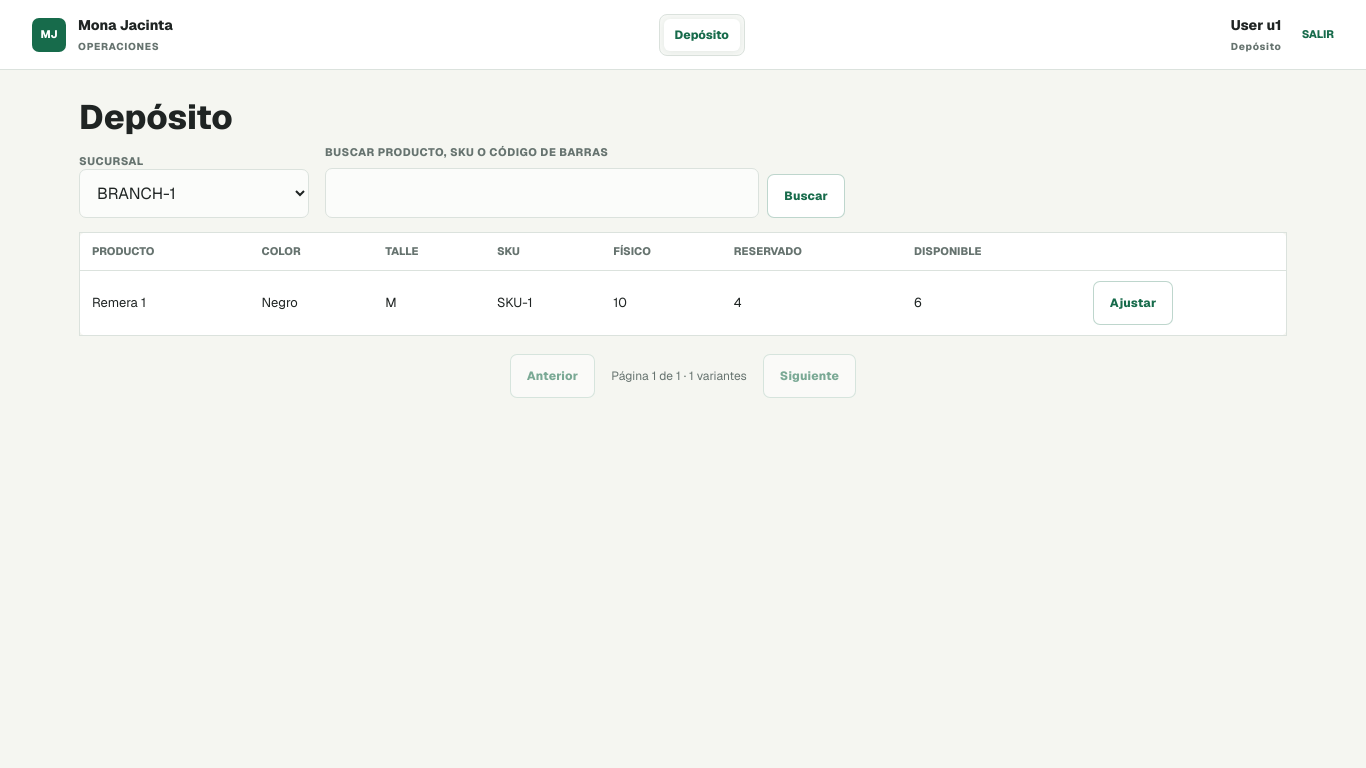
it: exchange drafts and the session › SX-02 an automatic session expiry (401 mid-operation) keeps the UNCERTAIN attempt and drops only the editable draft
Click the button with aria-label "Ajustar SKU-1". click: (1133, 303)
box: [1093,281,1173,325]
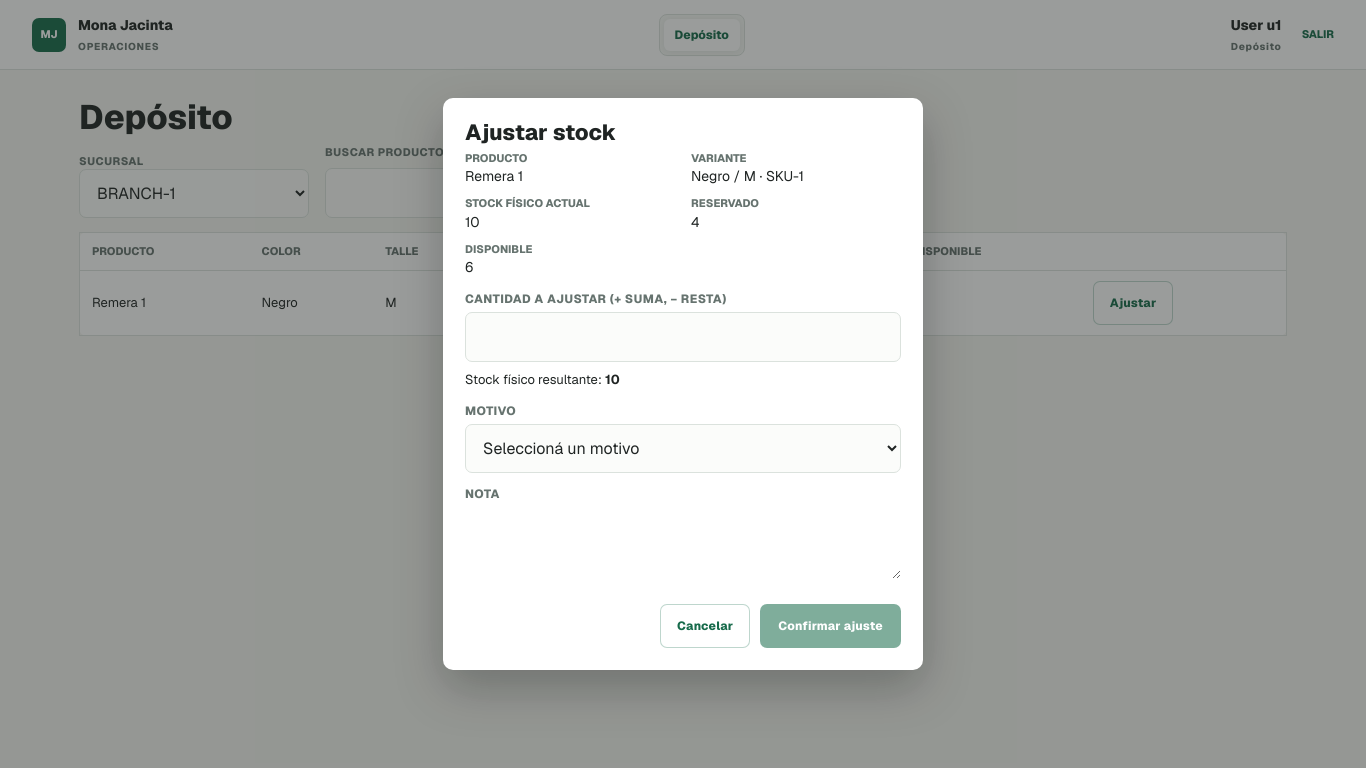
Type "2" into the field labelled "Cantidad a ajustar (+ suma, − resta)". click: (683, 337)
box: [465,312,901,362]
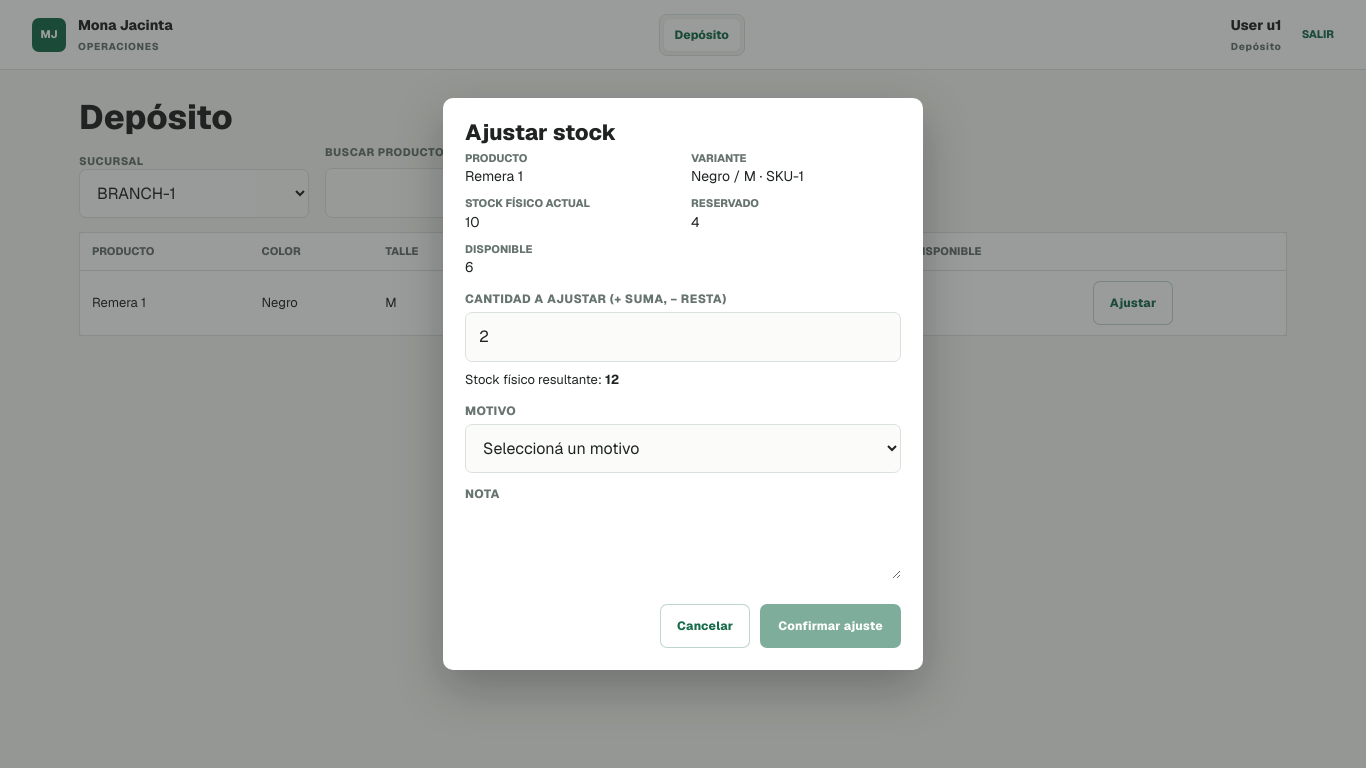
Select "Sobrante" in the dropdown labelled "Motivo". click: (683, 448)
box: [465,424,901,473]
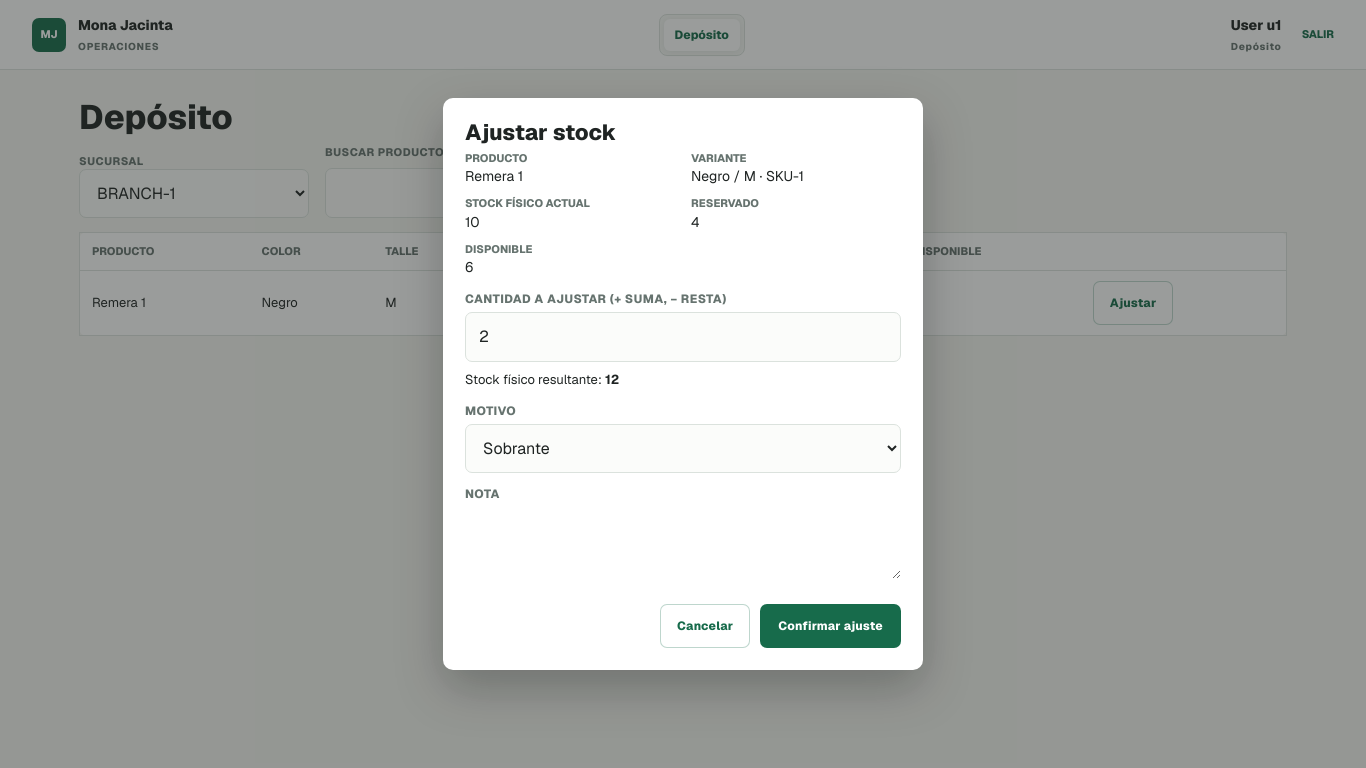
Click the button "Confirmar ajuste". click: (831, 626)
box: [760,604,901,648]
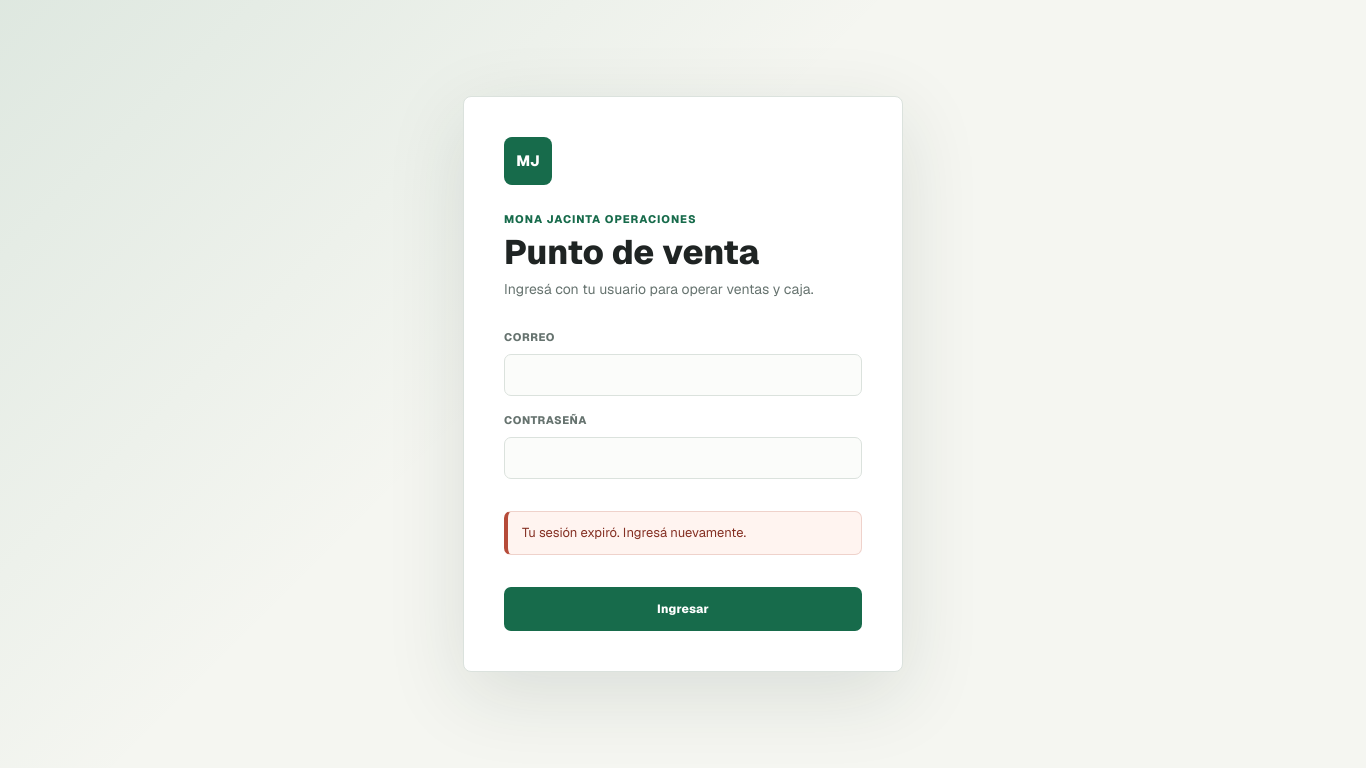
Check: the text "Tu sesión expiró. Ingresá nuevamente." is shown, box [504,512,862,555]
